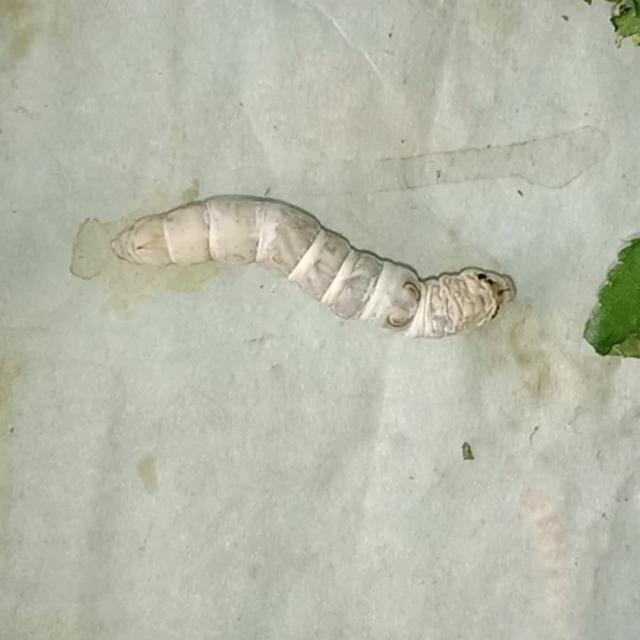Grasserie: (74, 154, 536, 371)
